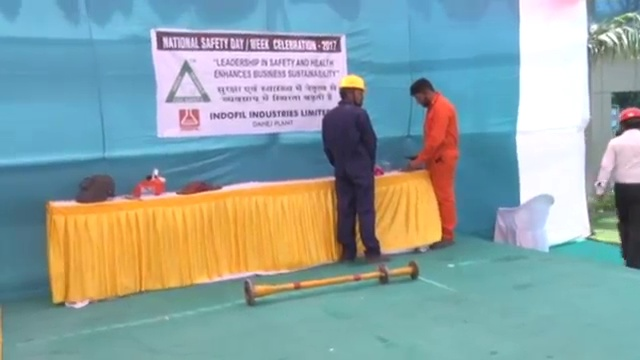helmet: (337, 73, 368, 91), (618, 106, 640, 122)
helmet_off: (408, 76, 437, 108)
helmet_on: (336, 74, 368, 109), (616, 104, 637, 136)
person: (322, 73, 391, 262), (405, 75, 459, 250), (592, 102, 640, 271)
